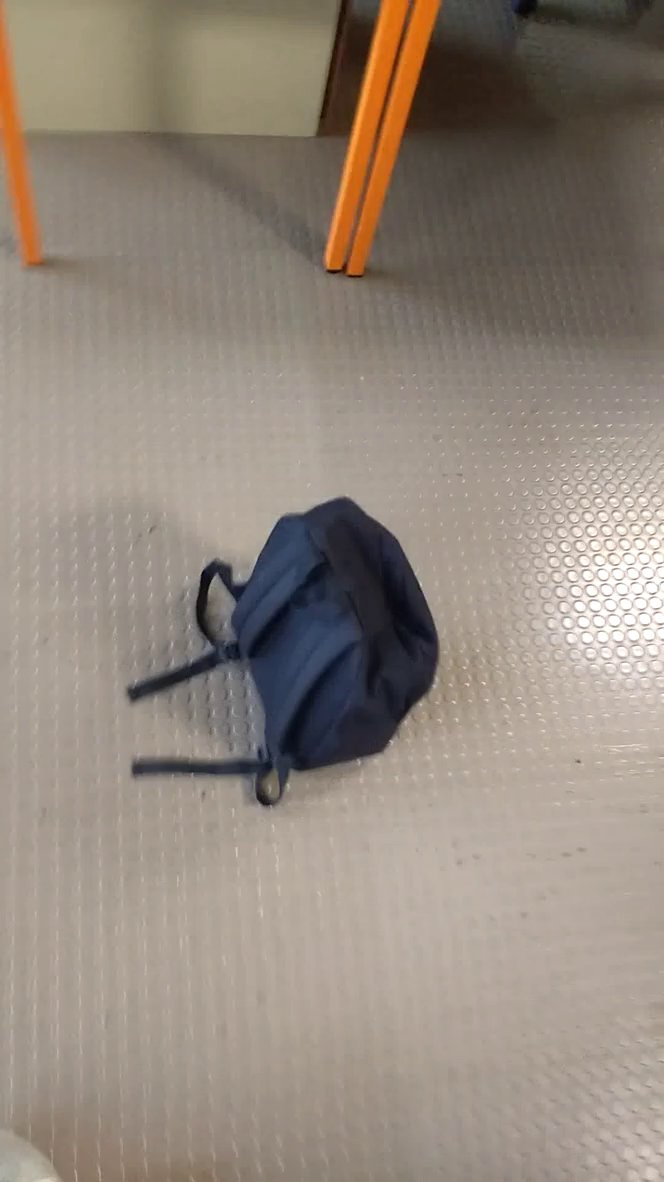bag: (120, 490, 458, 812)
